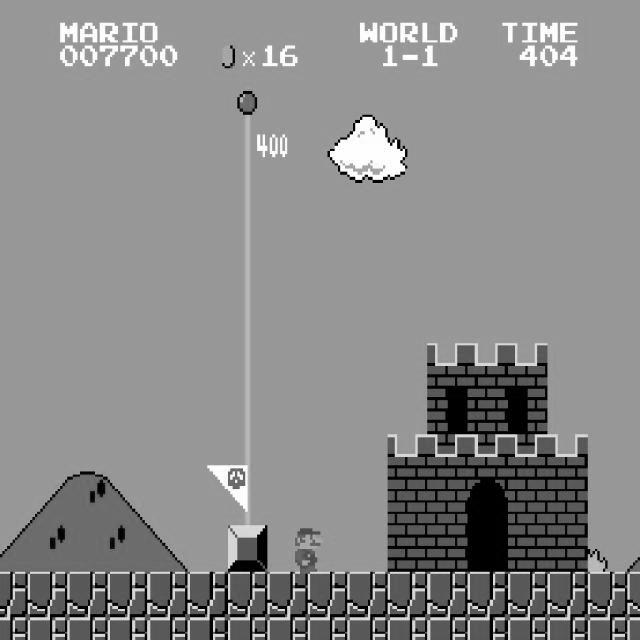1- brick_block: (507, 526, 548, 572)
17- undestructible_block: (27, 572, 68, 618), (67, 572, 108, 618), (107, 572, 148, 618), (147, 572, 188, 618), (187, 572, 228, 618), (227, 572, 268, 618), (267, 572, 308, 618), (307, 572, 348, 618), (347, 572, 388, 618), (387, 572, 428, 618), (427, 572, 468, 618), (467, 572, 508, 618), (507, 572, 548, 618), (547, 572, 588, 618), (587, 572, 628, 618), (0, 572, 28, 618), (27, 617, 68, 640), (67, 617, 108, 640), (107, 617, 148, 640), (147, 617, 188, 640), (187, 617, 228, 640), (227, 617, 268, 640), (267, 617, 308, 640), (307, 617, 348, 640), (347, 617, 388, 640), (387, 617, 428, 640), (427, 617, 468, 640), (467, 617, 508, 640), (507, 617, 548, 640), (547, 617, 588, 640), (587, 617, 628, 640), (0, 617, 28, 640), (627, 572, 640, 618), (627, 617, 640, 640)
7- goal_pole: (227, 68, 268, 114), (227, 114, 268, 160), (227, 160, 268, 206), (227, 252, 268, 298), (227, 297, 268, 343), (227, 388, 268, 434), (227, 434, 268, 480), (227, 480, 268, 526), (227, 206, 268, 251), (227, 343, 268, 388)
9- hard_block: (227, 526, 268, 572)
